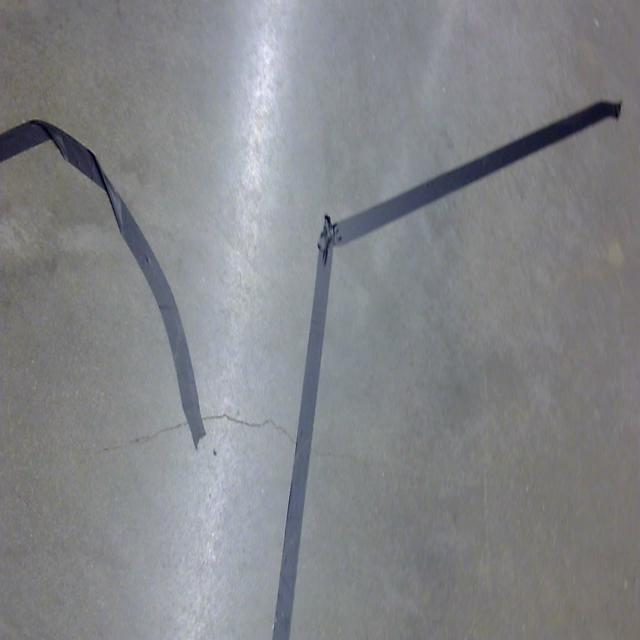tape: (272, 101, 623, 640), (0, 121, 206, 446)
